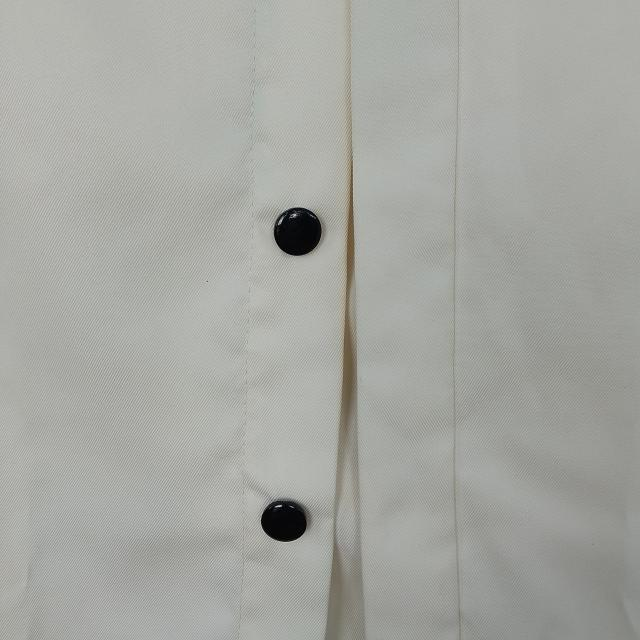education_male_uniform: (22, 9, 538, 640)
